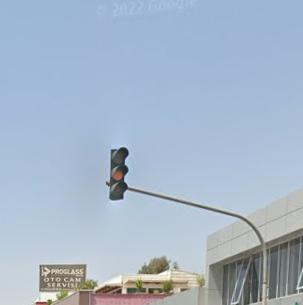yellowlight: (109, 147, 128, 201)
